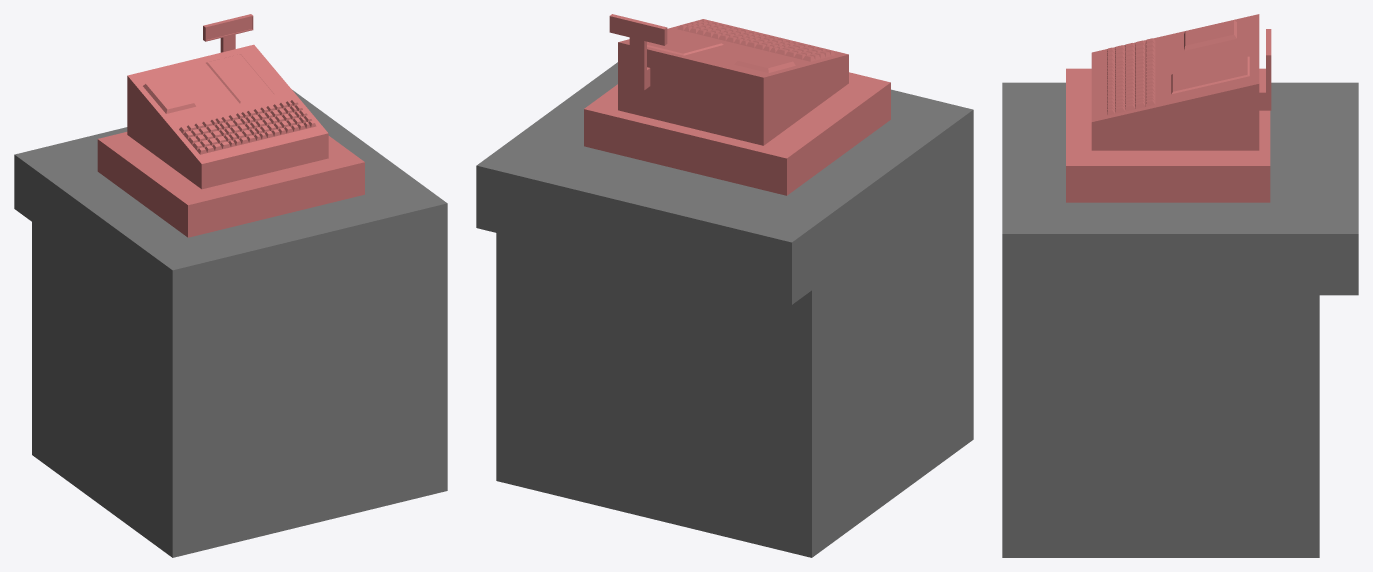
File: Counter+Till.fbx
The picture shows the model from 3 angles, left to right: view 1: azimuth 30°, elevation 25°; view 2: azimuth 150°, elevation 25°; view 3: azimuth 270°, elevation 25°; orthographic projection. The views are drawn at different scales.
Parts seen in each view (by area): view 1: Till Counter; view 2: Till Counter; view 3: Till Counter.
Boxes of the visible parts, box(x1,y1,x2,y2) form: Till Counter: box(14, 14, 447, 557); Till Counter: box(476, 14, 973, 557); Till Counter: box(1002, 14, 1358, 557).
Bounding box in the file's own units: 100 × 142 × 99.72.
